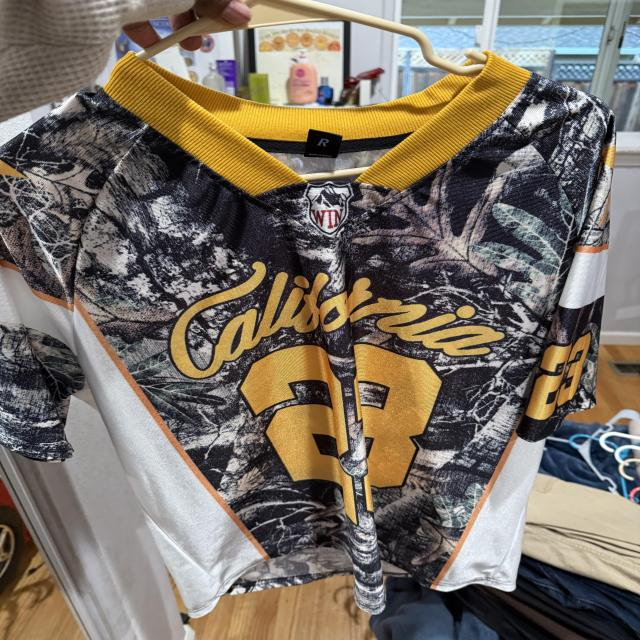back_tag: (280, 123, 373, 167)
